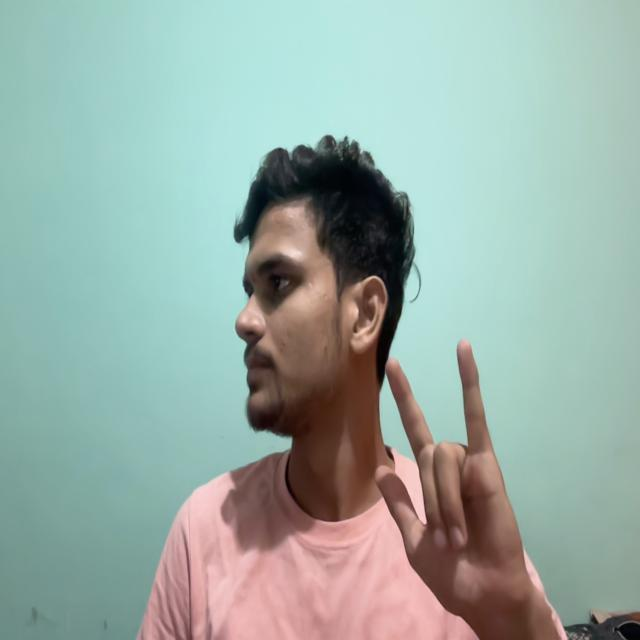iloveyou: (375, 339, 560, 639), (354, 331, 539, 611), (542, 608, 544, 610)
